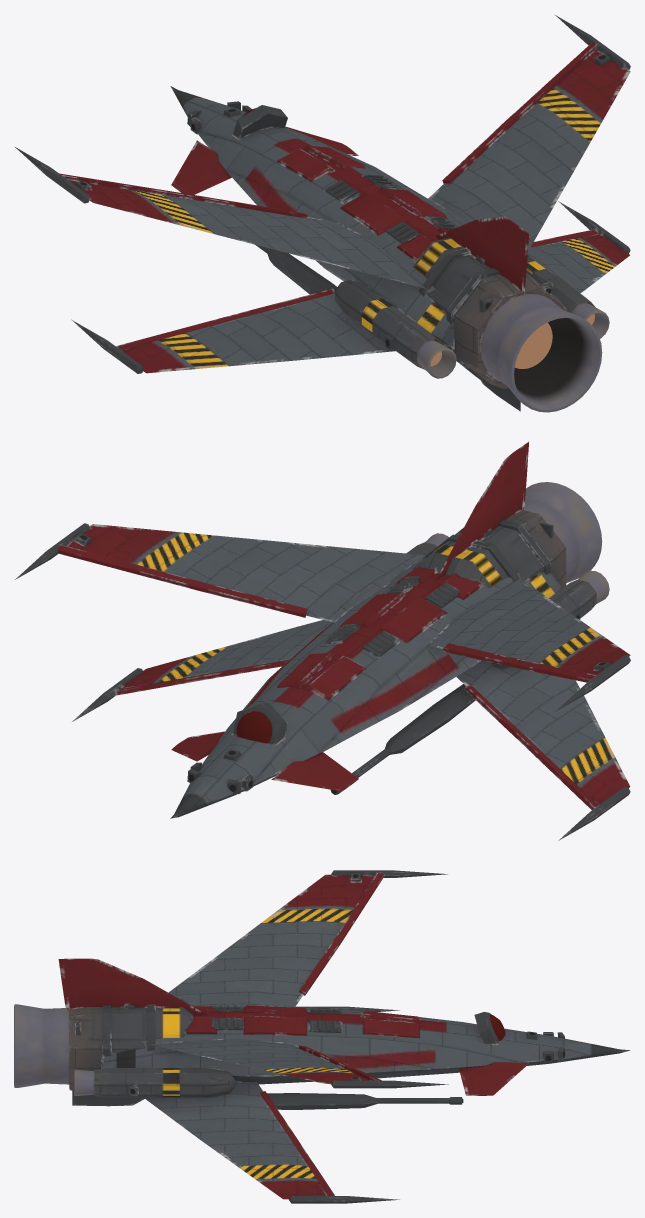
File: interceptor.glb
3 renders of one model, top to bottom at view 1: azimuth 30°, elevation 25°; view 2: azimuth 150°, elevation 25°; view 3: azimuth 270°, elevation 25°, orthographic. The views are drawn at different scales.
Parts seen in each view (by area): view 1: hull; view 2: hull; view 3: hull.
Boxes of the visible parts, x1=… form: hull: x1=15, y1=15, x2=630, y2=412; hull: x1=15, y1=442, x2=630, y2=840; hull: x1=14, y1=870, x2=629, y2=1203.
Bounding box in the file's own units: 9.18 × 2.99 × 11.21.
1 material, 1 textured.
